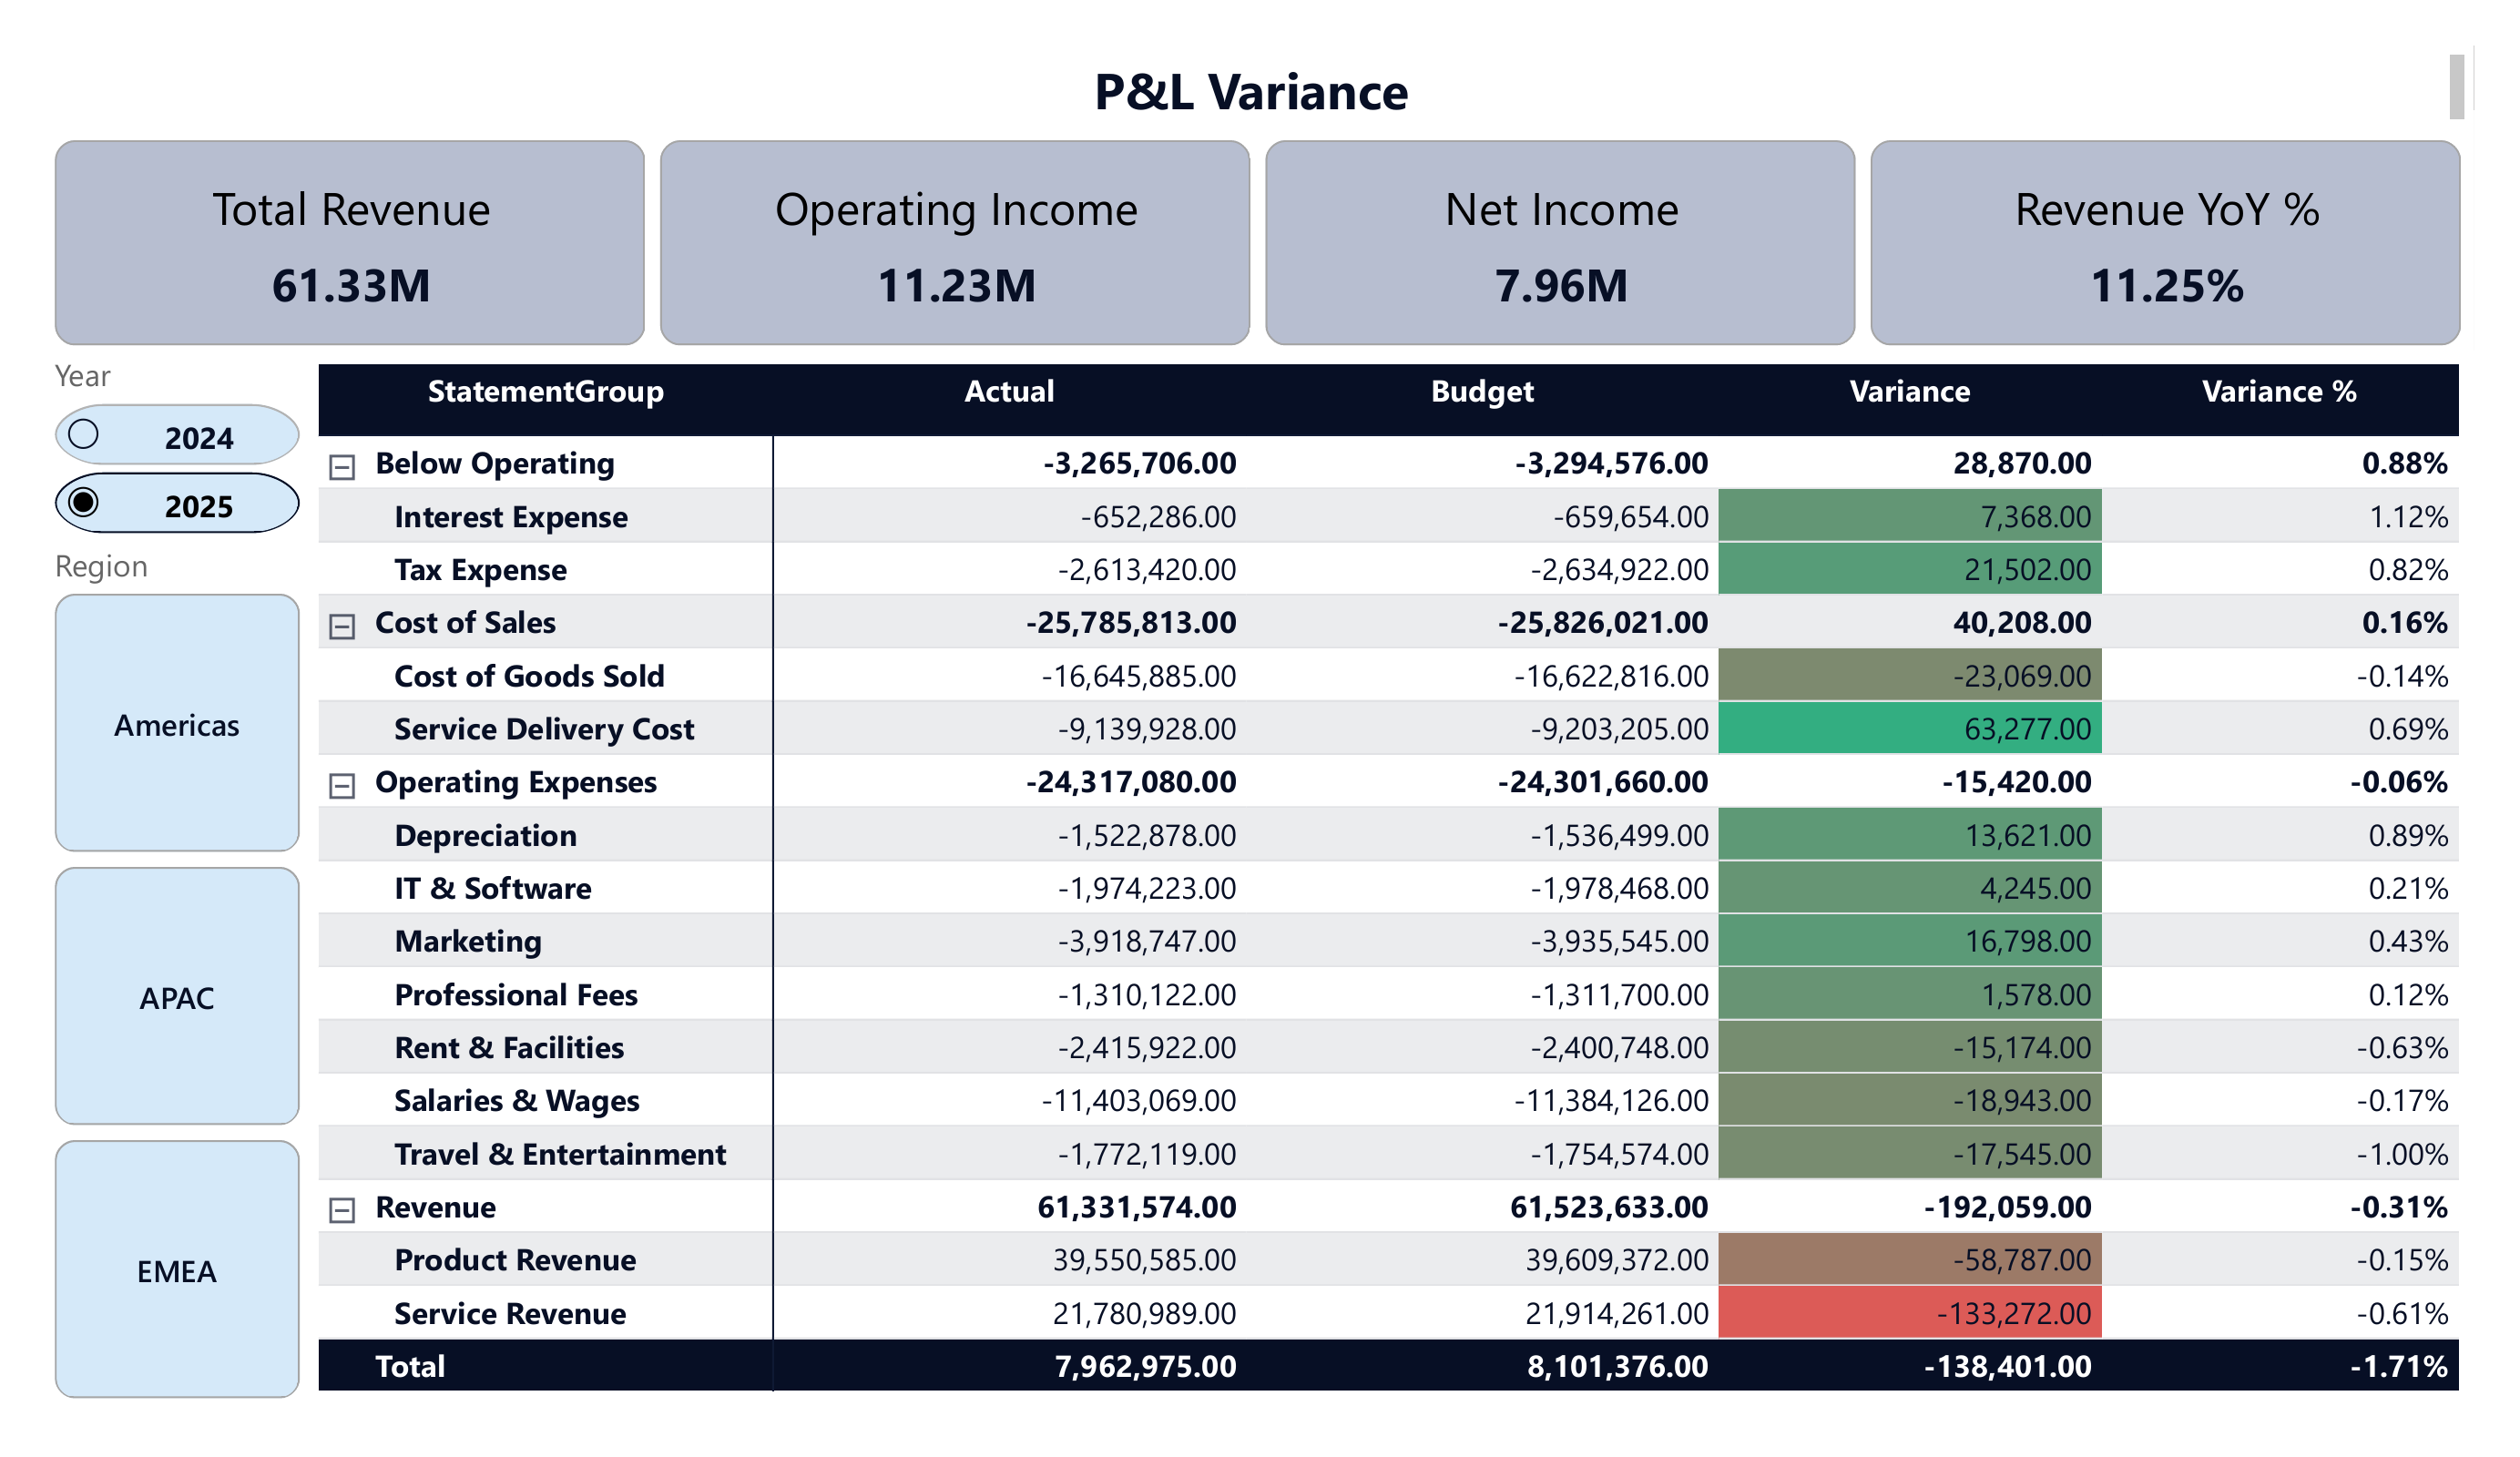

This screenshot's page, from the dashboard's own definition file:
{"tool":"powerbi","page":{"name":"P&L Variance","canvas":[1280,720],"ordinal":1},"visuals":[{"type":"textbox","box":[0,0,1280,45],"z":0},{"type":"cardVisual","fields":{"Data":["FactFinancials.Total Revenue","FactFinancials.Operating Income","FactFinancials.Net Income","FactFinancials.Revenue YoY %"]},"box":[0,45.2,1280,118.1],"z":1000},{"type":"advancedSlicerVisual","fields":{"Values":["DimEntity.Region"]},"box":[0,263.2,139.1,457.3],"z":2000},{"type":"pivotTable","fields":{"Rows":["DimAccount.Account Hierarchy.StatementGroup","DimAccount.Account Hierarchy.Account"],"Values":["FactFinancials.Actual","FactFinancials.Budget","FactFinancials.Variance","FactFinancials.Variance %"]},"box":[139,163.3,1141,557.2],"z":3000},{"type":"listSlicer","fields":{"Values":["DimDateDaily.Year"]},"box":[0,162.9,139.1,100],"z":4000}]}

Visuals, with their boxes on the page's 1280x720 design canvas (x1, y1, x2, y2). These are canvas units, not pixel positions in the 2520x1457 screenshot, which may show the page scaled, cropped or inside an application window:
textbox: <region>0, 0, 1280, 45</region>
cardVisual - FactFinancials.Total Revenue x FactFinancials.Operating Income: <region>0, 45, 1280, 163</region>
advancedSlicerVisual - DimEntity.Region: <region>0, 263, 139, 720</region>
pivotTable - DimAccount.Account Hierarchy.StatementGroup x DimAccount.Account Hierarchy.Account: <region>139, 163, 1280, 720</region>
listSlicer - DimDateDaily.Year: <region>0, 163, 139, 263</region>
